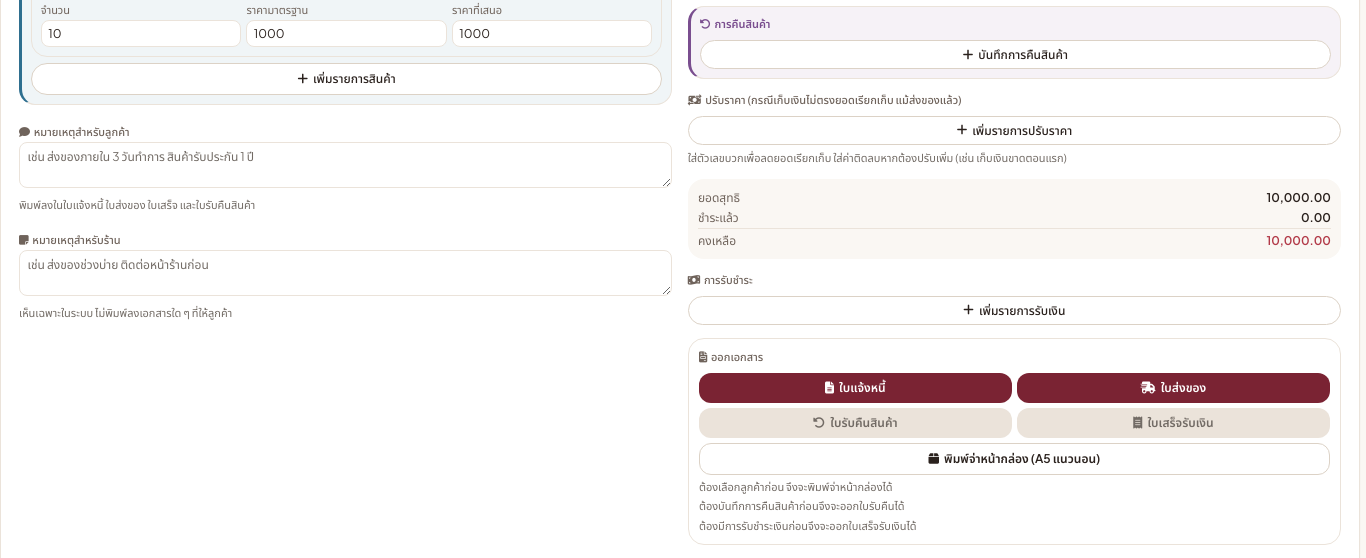
Test: WholesaleDetail — เอกสารขายส่ง › refuses to record a delivery with no หลักฐาน attached
(page scrolled)
Click the button "ใบส่งของ" at (1173, 388), box [1017,373,1330,403]
(page scrolled)
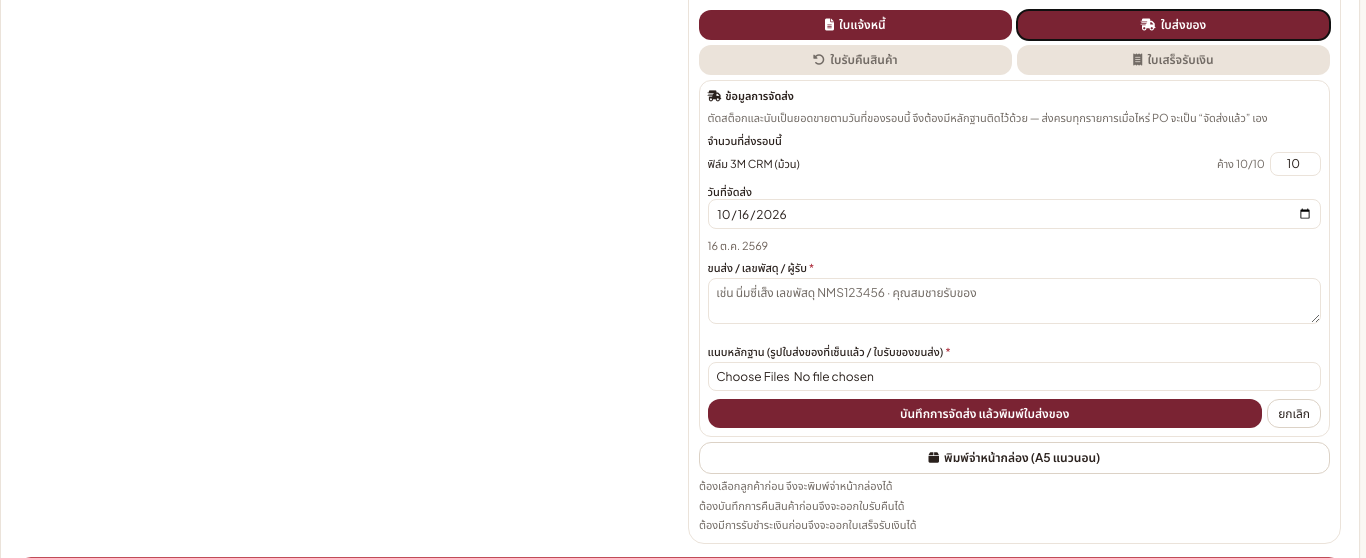
Type "นิ่มซี่เส็ง NMS123456" into the text box labelled "ขนส่ง / เลขพัสดุ / ผู้รับ *" at (1014, 301), box [708,278,1321,324]
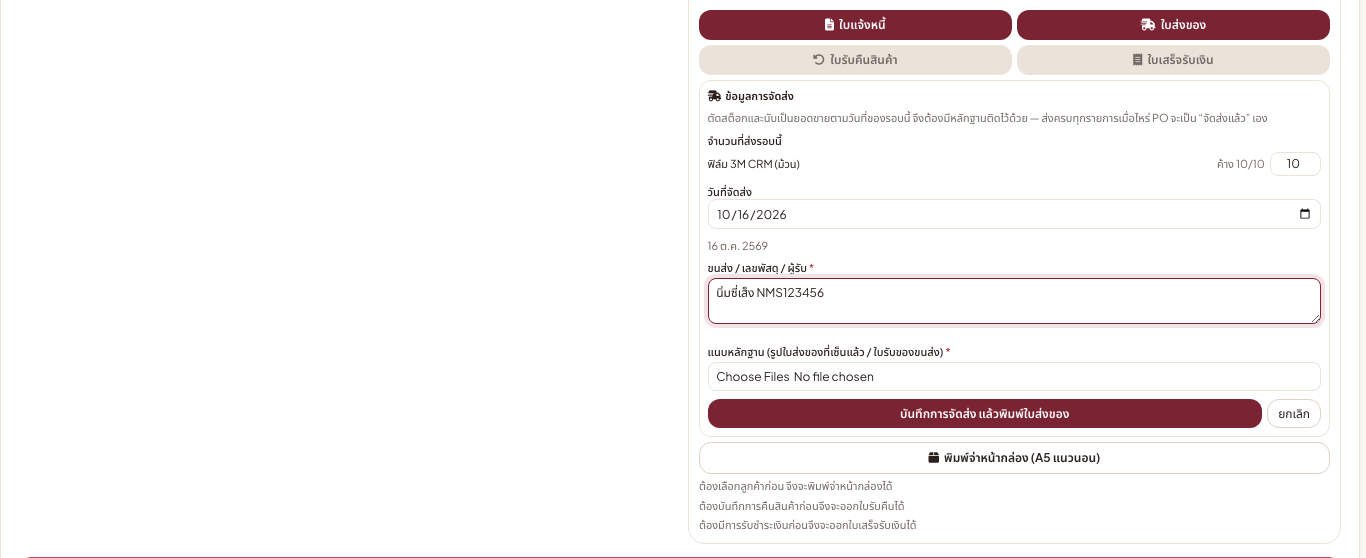
Click the button "บันทึกการจัดส่ง แล้วพิมพ์ใบส่งของ" at (985, 414), box [708,399,1262,428]
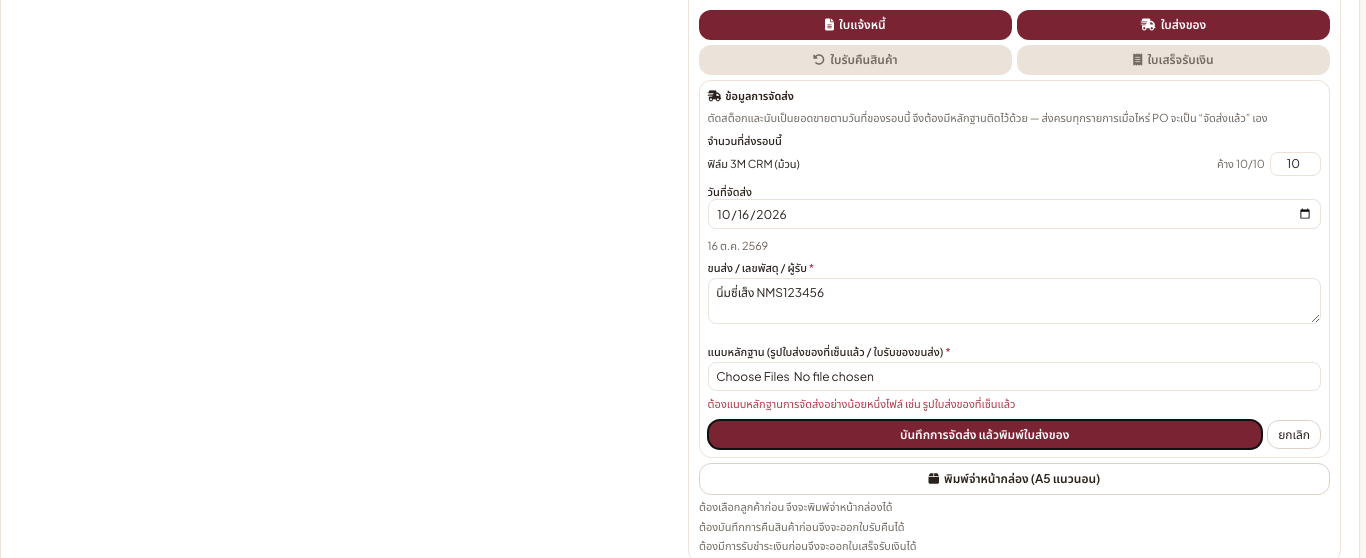
Now the message shows "ต้องแนบหลักฐาน", box [708,397,1015,410]
